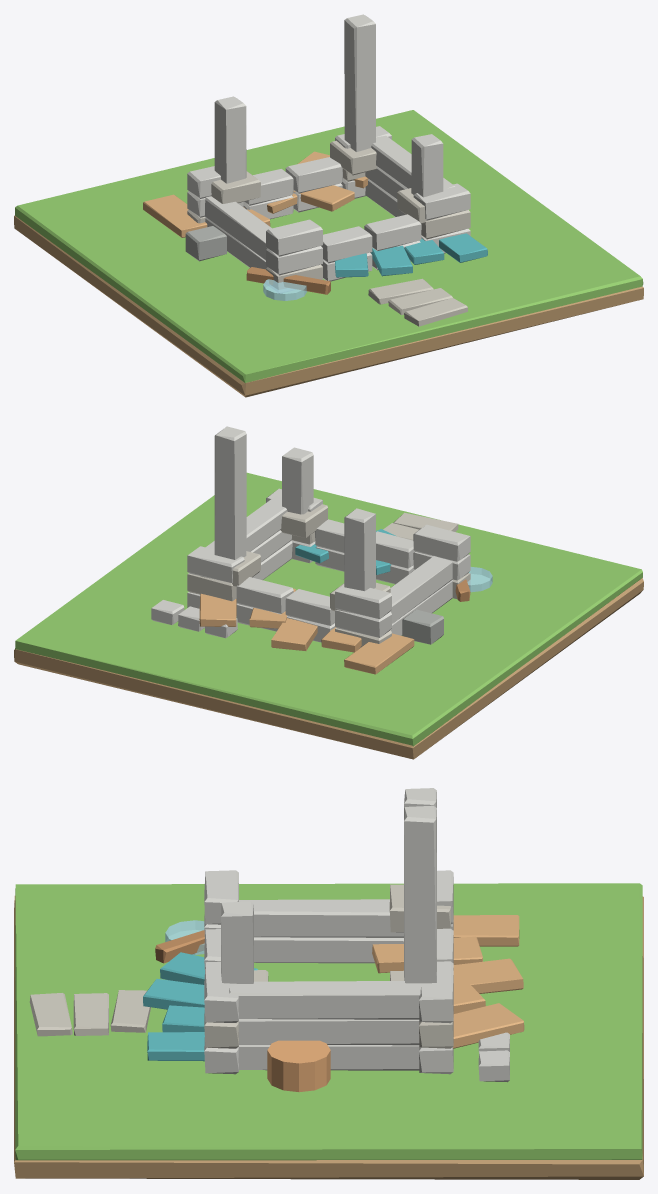
The model's file is tower_l04_ruined_LOD1.glb.
3 views of the same model, one above another, from view 1: azimuth 30°, elevation 25°; view 2: azimuth 150°, elevation 25°; view 3: azimuth 270°, elevation 25° (orthographic). The views are drawn at different scales.
Parts seen in each view (by area): view 1: tower_l04_grass_tile_tower_l04_ruined_LOD1_tmp, tower_l04_earth_tile_tower_l04_ruined_LOD1_tmp, snapped_upright_0.58_0.52_tower_l04_ruined_LOD1_tmp, snapped_upright_-0.58_0.52_tower_l04_ruined_LOD1_tmp, ruin_stone_return_1_-0.72_tower_l04_ruined_LOD1_tmp, snapped_upright_0.58_-0.52_tower_l04_ruined_LOD1_tmp, ruin_stone_course_2_-1_0_tower_l04_ruined_LOD1_tmp, ruin_stone_course_1_-1_2_tower_l04_ruined_LOD1_tmp, ruin_stone_course_1_1_2_tower_l04_ruined_LOD1_tmp, ruin_stone_return_2_0.72_tower_l04_ruined_LOD1_tmp, collapsed_deck_0_tower_l04_ruined_LOD1_tmp, ruin_stone_course_1_-1_1_tower_l04_ruined_LOD1_tmp (+23 smaller); view 2: tower_l04_grass_tile_tower_l04_ruined_LOD1_tmp, tower_l04_earth_tile_tower_l04_ruined_LOD1_tmp, snapped_upright_0.58_0.52_tower_l04_ruined_LOD1_tmp, snapped_upright_-0.58_0.52_tower_l04_ruined_LOD1_tmp, ruin_stone_return_1_-0.72_tower_l04_ruined_LOD1_tmp, snapped_upright_0.58_-0.52_tower_l04_ruined_LOD1_tmp, collapsed_deck_0_tower_l04_ruined_LOD1_tmp, ruin_stone_course_2_-1_0_tower_l04_ruined_LOD1_tmp, ruin_stone_course_1_1_2_tower_l04_ruined_LOD1_tmp, ruin_stone_course_2_1_0_tower_l04_ruined_LOD1_tmp, ruin_stone_return_2_0.72_tower_l04_ruined_LOD1_tmp, ruin_stone_course_1_1_1_tower_l04_ruined_LOD1_tmp (+20 smaller); view 3: tower_l04_grass_tile_tower_l04_ruined_LOD1_tmp, tower_l04_earth_tile_tower_l04_ruined_LOD1_tmp, ruin_stone_return_2_0.72_tower_l04_ruined_LOD1_tmp, snapped_upright_0.58_0.52_tower_l04_ruined_LOD1_tmp, ruin_stone_return_1_-0.72_tower_l04_ruined_LOD1_tmp, ruin_stone_return_1_0.72_tower_l04_ruined_LOD1_tmp, ruin_stone_return_0_-0.72_tower_l04_ruined_LOD1_tmp, ruin_stone_return_0_0.72_tower_l04_ruined_LOD1_tmp, fallen_bell_tower_l04_ruined_LOD1_tmp, snapped_upright_0.58_-0.52_tower_l04_ruined_LOD1_tmp, collapsed_deck_4_tower_l04_ruined_LOD1_tmp, collapsed_deck_0_tower_l04_ruined_LOD1_tmp (+25 smaller).
Boxes of the visible parts, x1,y1,x2,y2 form: tower_l04_grass_tile_tower_l04_ruined_LOD1_tmp: (15, 110, 643, 383); tower_l04_earth_tile_tower_l04_ruined_LOD1_tmp: (14, 215, 643, 397); snapped_upright_0.58_0.52_tower_l04_ruined_LOD1_tmp: (344, 14, 375, 151); snapped_upright_-0.58_0.52_tower_l04_ruined_LOD1_tmp: (214, 96, 246, 183); ruin_stone_return_1_-0.72_tower_l04_ruined_LOD1_tmp: (205, 196, 271, 260); snapped_upright_0.58_-0.52_tower_l04_ruined_LOD1_tmp: (411, 134, 443, 197); ruin_stone_course_2_-1_0_tower_l04_ruined_LOD1_tmp: (266, 219, 322, 256); ruin_stone_course_1_-1_2_tower_l04_ruined_LOD1_tmp: (364, 214, 421, 250); ruin_stone_course_1_1_2_tower_l04_ruined_LOD1_tmp: (285, 157, 342, 193); ruin_stone_return_2_0.72_tower_l04_ruined_LOD1_tmp: (371, 135, 454, 188); collapsed_deck_0_tower_l04_ruined_LOD1_tmp: (143, 194, 207, 237); ruin_stone_course_1_-1_1_tower_l04_ruined_LOD1_tmp: (321, 226, 372, 263); tower_l04_grass_tile_tower_l04_ruined_LOD1_tmp: (15, 472, 642, 746); tower_l04_earth_tile_tower_l04_ruined_LOD1_tmp: (14, 578, 643, 759); snapped_upright_0.58_0.52_tower_l04_ruined_LOD1_tmp: (214, 426, 246, 559); snapped_upright_-0.58_0.52_tower_l04_ruined_LOD1_tmp: (344, 508, 375, 591); ruin_stone_return_1_-0.72_tower_l04_ruined_LOD1_tmp: (390, 556, 452, 623); snapped_upright_0.58_-0.52_tower_l04_ruined_LOD1_tmp: (282, 447, 313, 514); collapsed_deck_0_tower_l04_ruined_LOD1_tmp: (344, 633, 414, 674); ruin_stone_course_2_-1_0_tower_l04_ruined_LOD1_tmp: (413, 524, 470, 561); ruin_stone_course_1_1_2_tower_l04_ruined_LOD1_tmp: (236, 577, 293, 613); ruin_stone_course_2_1_0_tower_l04_ruined_LOD1_tmp: (335, 585, 391, 619); ruin_stone_return_2_0.72_tower_l04_ruined_LOD1_tmp: (205, 496, 287, 551); ruin_stone_course_1_1_1_tower_l04_ruined_LOD1_tmp: (285, 589, 334, 625); tower_l04_grass_tile_tower_l04_ruined_LOD1_tmp: (15, 883, 642, 1160); tower_l04_earth_tile_tower_l04_ruined_LOD1_tmp: (14, 896, 643, 1179); ruin_stone_return_2_0.72_tower_l04_ruined_LOD1_tmp: (229, 981, 427, 1019); snapped_upright_0.58_0.52_tower_l04_ruined_LOD1_tmp: (404, 805, 436, 983); ruin_stone_return_1_-0.72_tower_l04_ruined_LOD1_tmp: (239, 899, 403, 937); ruin_stone_return_1_0.72_tower_l04_ruined_LOD1_tmp: (238, 1019, 419, 1045); ruin_stone_return_0_-0.72_tower_l04_ruined_LOD1_tmp: (254, 937, 403, 963); ruin_stone_return_0_0.72_tower_l04_ruined_LOD1_tmp: (238, 1044, 419, 1070); fallen_bell_tower_l04_ruined_LOD1_tmp: (267, 1040, 330, 1092); snapped_upright_0.58_-0.52_tower_l04_ruined_LOD1_tmp: (221, 901, 253, 983); collapsed_deck_4_tower_l04_ruined_LOD1_tmp: (453, 1003, 524, 1048); collapsed_deck_0_tower_l04_ruined_LOD1_tmp: (453, 915, 519, 946).
Size of the model in its own units: 3.6 by 1.76 by 3.58.
